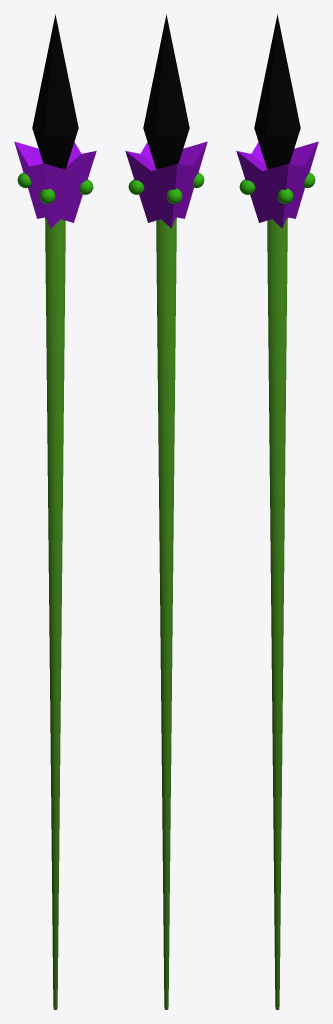
File: Poison Spear.fbx
The picture shows the model from 3 angles, left to right: view 1: azimuth 30°, elevation 25°; view 2: azimuth 150°, elevation 25°; view 3: azimuth 330°, elevation 25°; orthographic projection.
Parts seen in each view (by area): view 1: Spear, Blade, Blade Base, Base Accent; view 2: Spear, Blade, Blade Base, Base Accent; view 3: Spear, Blade, Blade Base, Base Accent.
Boxes of the visible parts, <box> form: Spear: <box>45,217,65,1009</box>; Blade: <box>32,14,78,169</box>; Blade Base: <box>14,141,96,228</box>; Base Accent: <box>17,173,93,203</box>; Spear: <box>156,217,176,1009</box>; Blade: <box>143,14,189,169</box>; Blade Base: <box>125,141,207,228</box>; Base Accent: <box>128,173,204,203</box>; Spear: <box>267,217,287,1009</box>; Blade: <box>254,14,300,169</box>; Blade Base: <box>236,141,318,228</box>; Base Accent: <box>239,173,315,203</box>.
Size of the model in its own units: 11.19 by 203 by 11.19.
